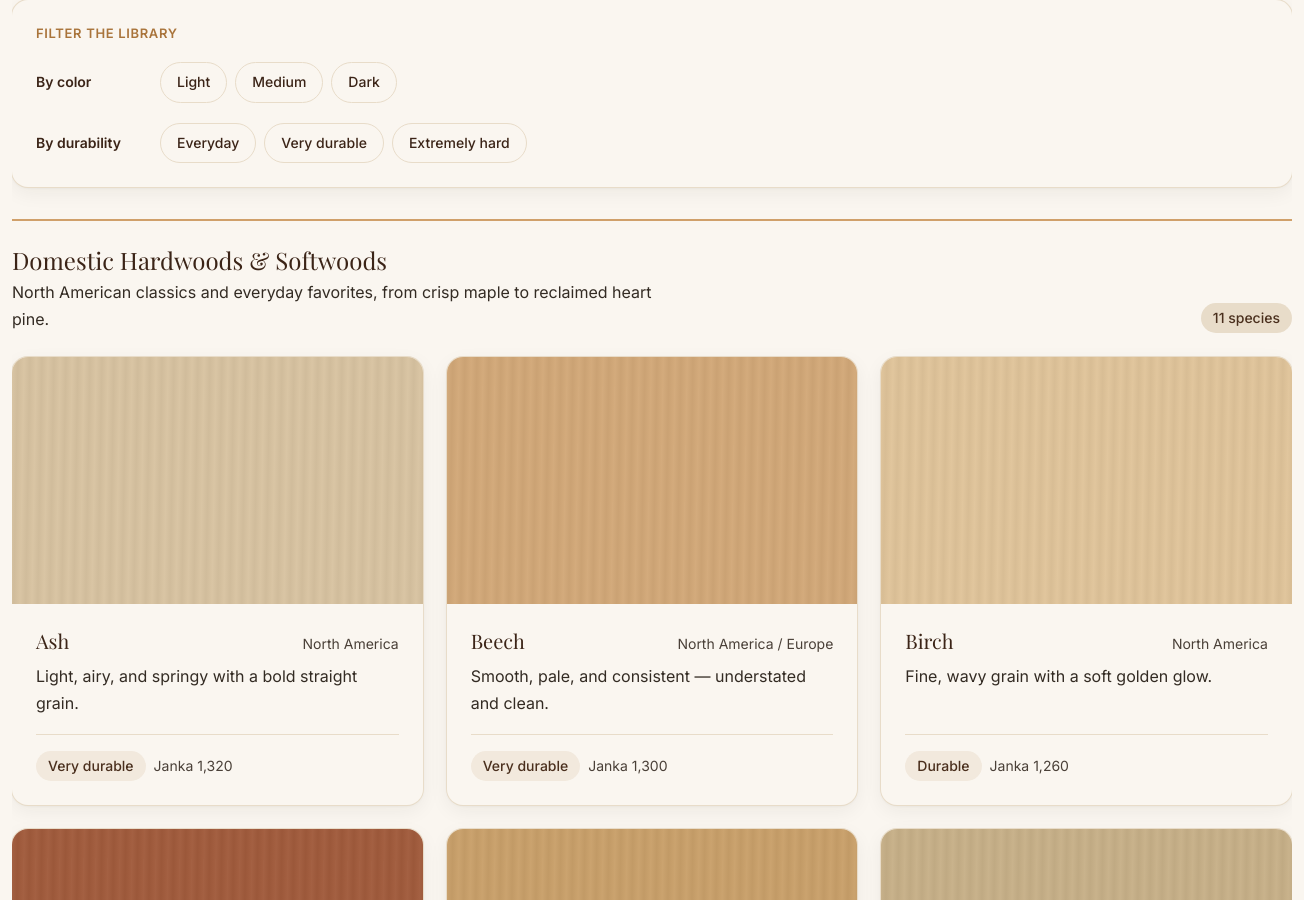
SpeciesExplorer › clears filters via the reset control
The image size is (1304, 900).
Click the button "Light" at {"x": 194, "y": 82}, box x1=160 y1=62 x2=227 y2=103
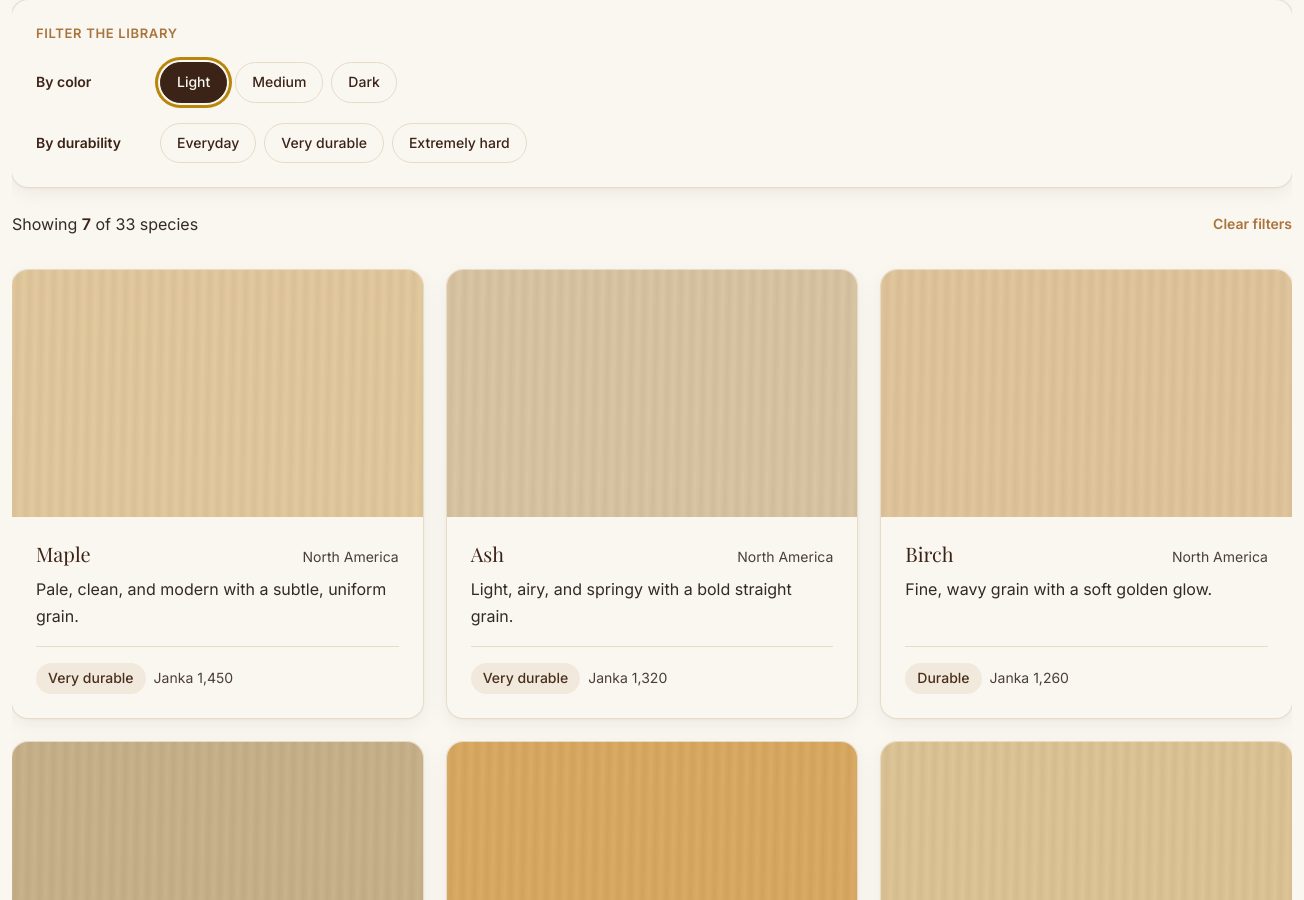
Now the button "Clear filters" is shown
Click the button "Clear filters" at {"x": 1253, "y": 225}, box x1=1213 y1=213 x2=1292 y2=236
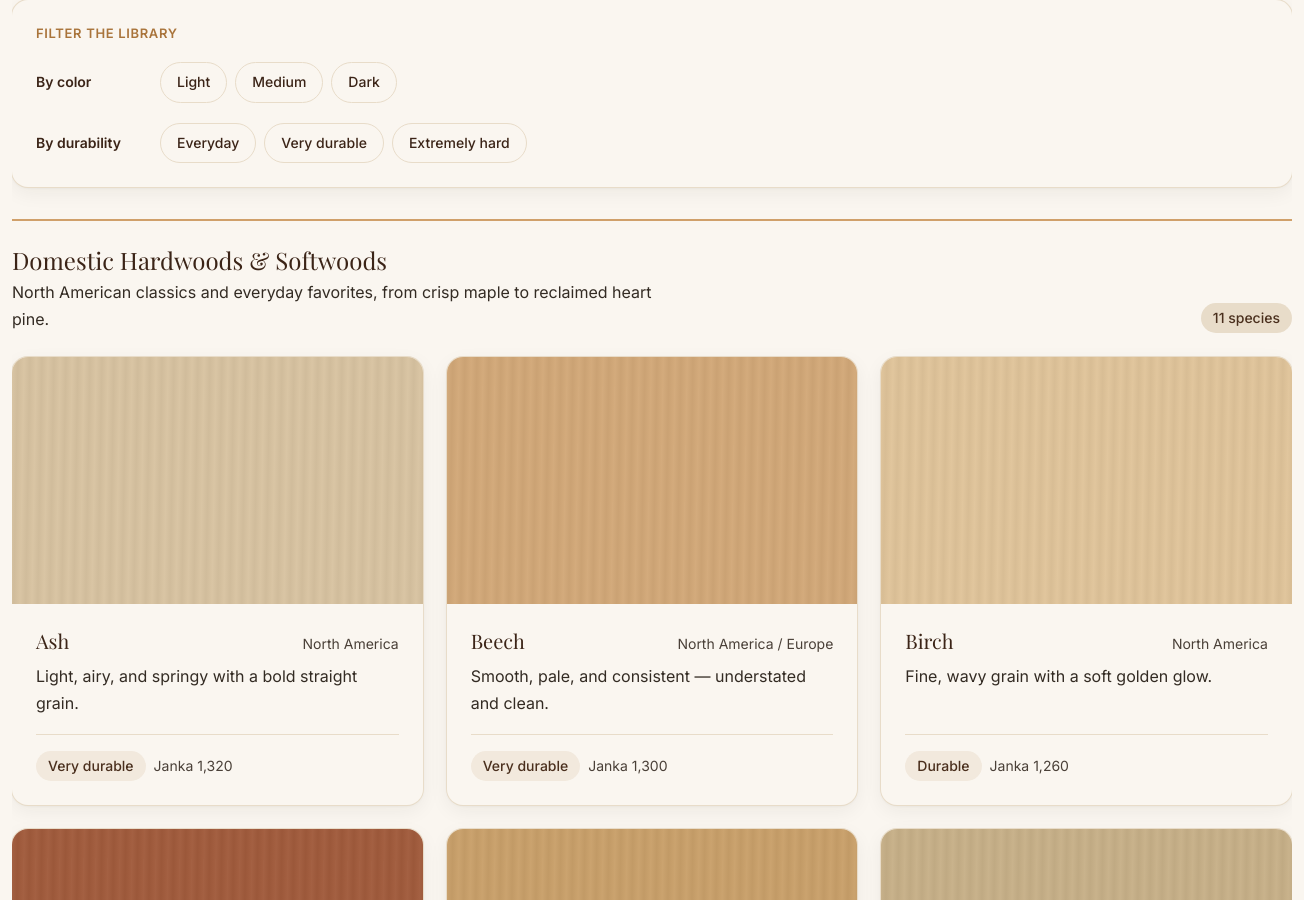
Now the text "Showing" is gone
Now the heading "Domestic Hardwoods & Softwoods" is shown, box x1=12 y1=244 x2=387 y2=276
